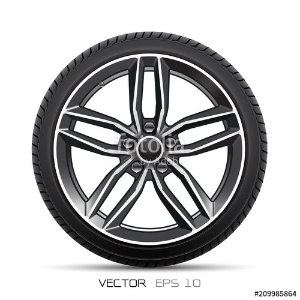tire: (27, 27, 267, 268)
